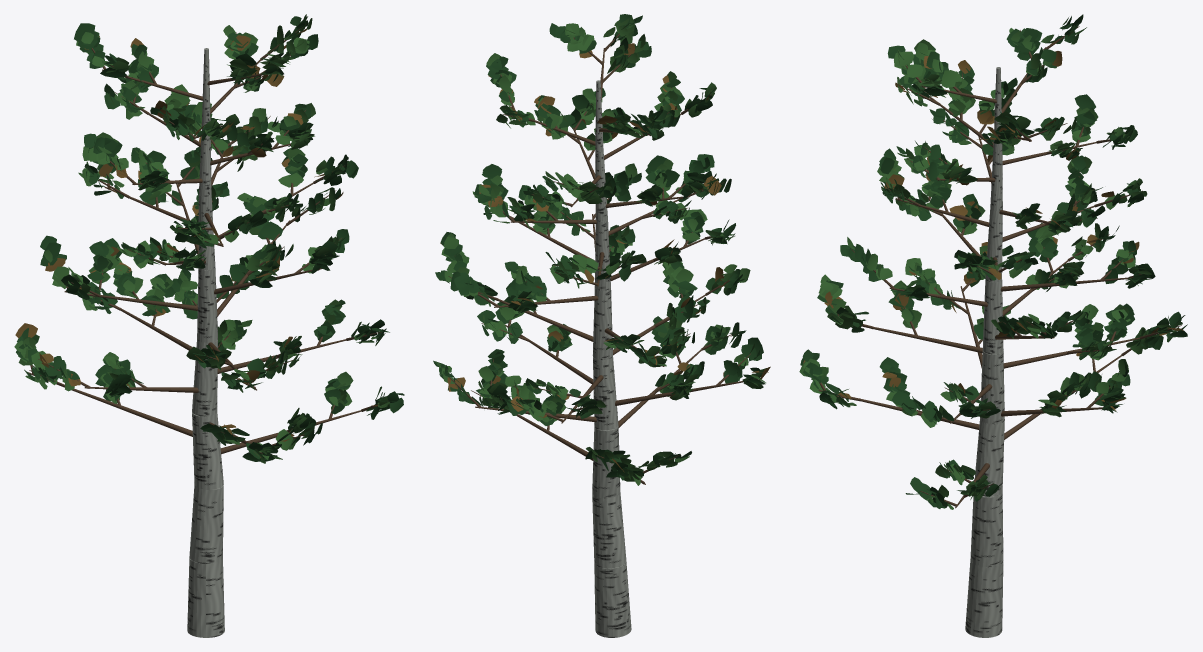
File: detail_birch.glb
3 views of the same model, side by side, from view 1: azimuth 30°, elevation 25°; view 2: azimuth 150°, elevation 25°; view 3: azimuth 270°, elevation 25° (orthographic). The views are drawn at different scales.
Visible parts, largest first — view 1: IndividualBirchLeaves, BirchTrunk0, BirchTrunk1, BirchTrunk2, BirchTrunk4, BirchTrunk3, BirchTrunk5, BirchTrunk6, BirchLimb1; view 2: IndividualBirchLeaves, BirchTrunk0, BirchTrunk1, BirchTrunk3, BirchTrunk2, BirchTrunk4, BirchTrunk5, BirchTrunk6; view 3: IndividualBirchLeaves, BirchTrunk0, BirchTrunk1, BirchTrunk2, BirchTrunk3, BirchTrunk4, BirchTrunk5, BirchTrunk6.
Boxes of the visible parts, x1=… form: IndividualBirchLeaves: x1=14, y1=14, x2=404, y2=463; BirchTrunk0: x1=187, y1=557, x2=224, y2=637; BirchTrunk1: x1=189, y1=484, x2=223, y2=563; BirchTrunk2: x1=192, y1=412, x2=223, y2=489; BirchTrunk4: x1=197, y1=267, x2=217, y2=342; BirchTrunk3: x1=192, y1=339, x2=217, y2=416; BirchTrunk5: x1=198, y1=194, x2=215, y2=269; BirchTrunk6: x1=199, y1=122, x2=211, y2=196; BirchLimb1: x1=28, y1=372, x2=192, y2=436; IndividualBirchLeaves: x1=433, y1=14, x2=770, y2=485; BirchTrunk0: x1=594, y1=562, x2=631, y2=637; BirchTrunk1: x1=592, y1=492, x2=626, y2=568; BirchTrunk3: x1=593, y1=356, x2=618, y2=430; BirchTrunk2: x1=592, y1=425, x2=620, y2=498; BirchTrunk4: x1=592, y1=288, x2=612, y2=360; BirchTrunk5: x1=594, y1=220, x2=610, y2=290; BirchTrunk6: x1=595, y1=151, x2=607, y2=221; IndividualBirchLeaves: x1=799, y1=14, x2=1187, y2=509; BirchTrunk0: x1=965, y1=560, x2=1003, y2=637; BirchTrunk1: x1=970, y1=491, x2=1003, y2=567; BirchTrunk2: x1=974, y1=419, x2=1004, y2=496; BirchTrunk3: x1=980, y1=350, x2=1004, y2=424; BirchTrunk4: x1=982, y1=279, x2=1003, y2=354; BirchTrunk5: x1=985, y1=209, x2=1002, y2=282; BirchTrunk6: x1=990, y1=139, x2=1002, y2=210.
Bounding box in the file's own units: 5.81 × 10.07 × 5.99.
Materials: 5 (1 with a texture image).
